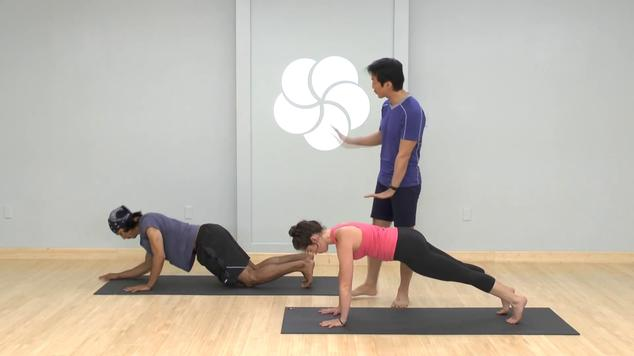stay: (357, 55, 434, 246)
